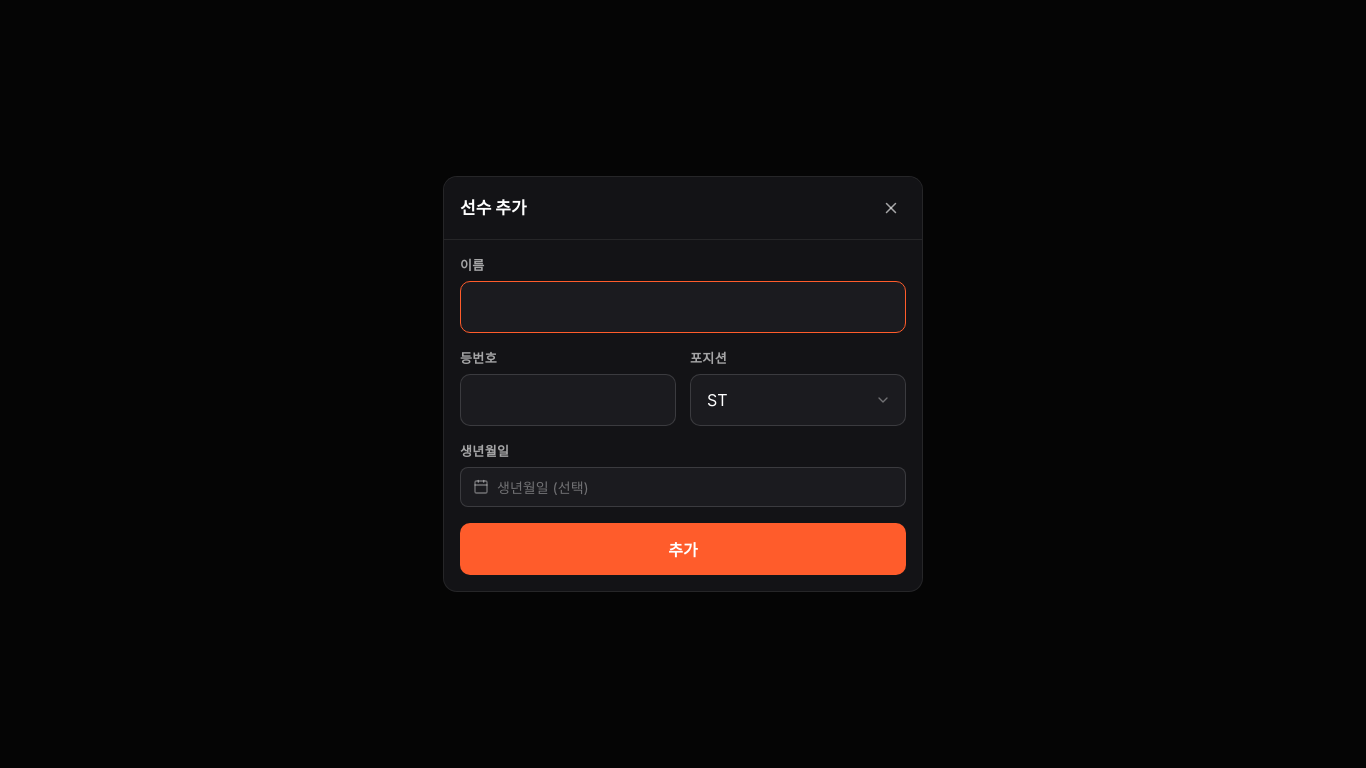
PlayerFormModal › requires a name
Step 1. Click the button "추가" → [683, 549], box left=460, top=523, right=906, bottom=575
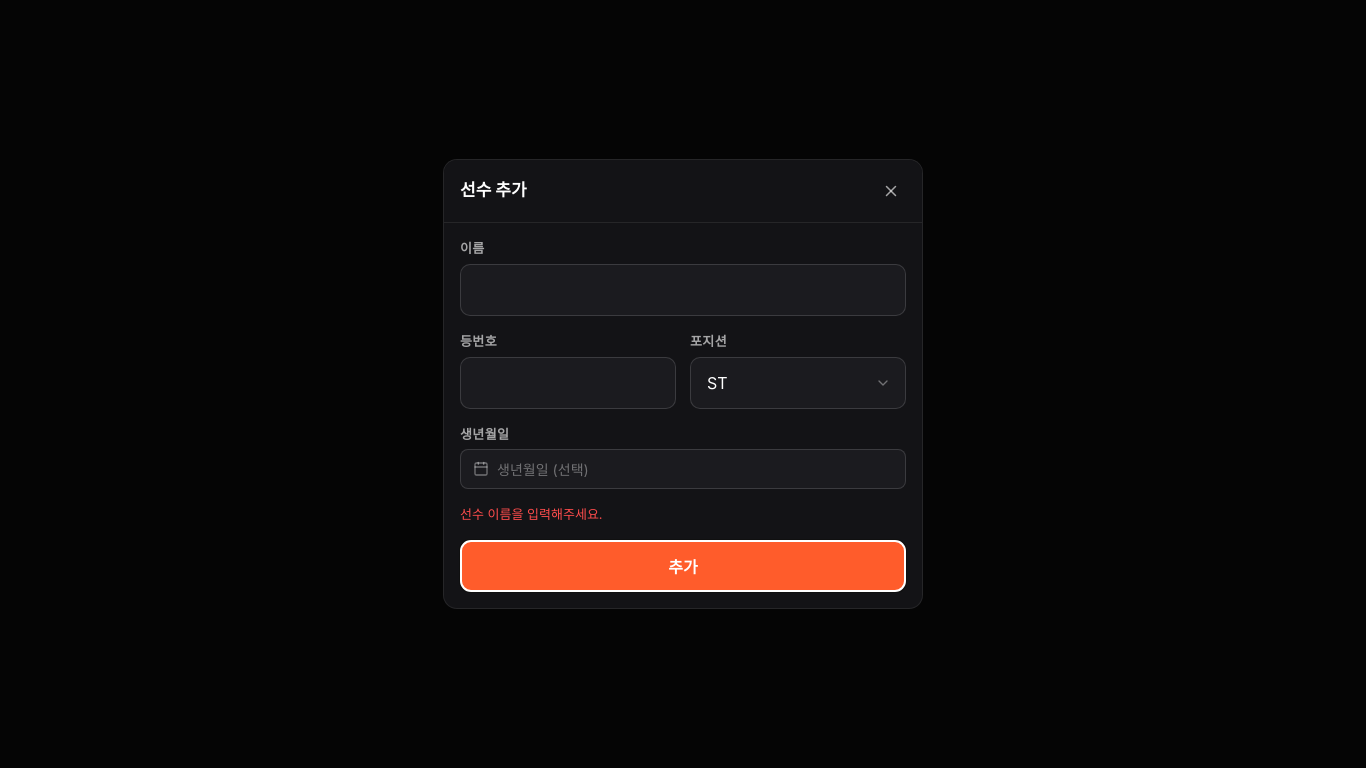
Expected: the text "선수 이름을 입력해주세요." is shown, left=460, top=506, right=603, bottom=522
